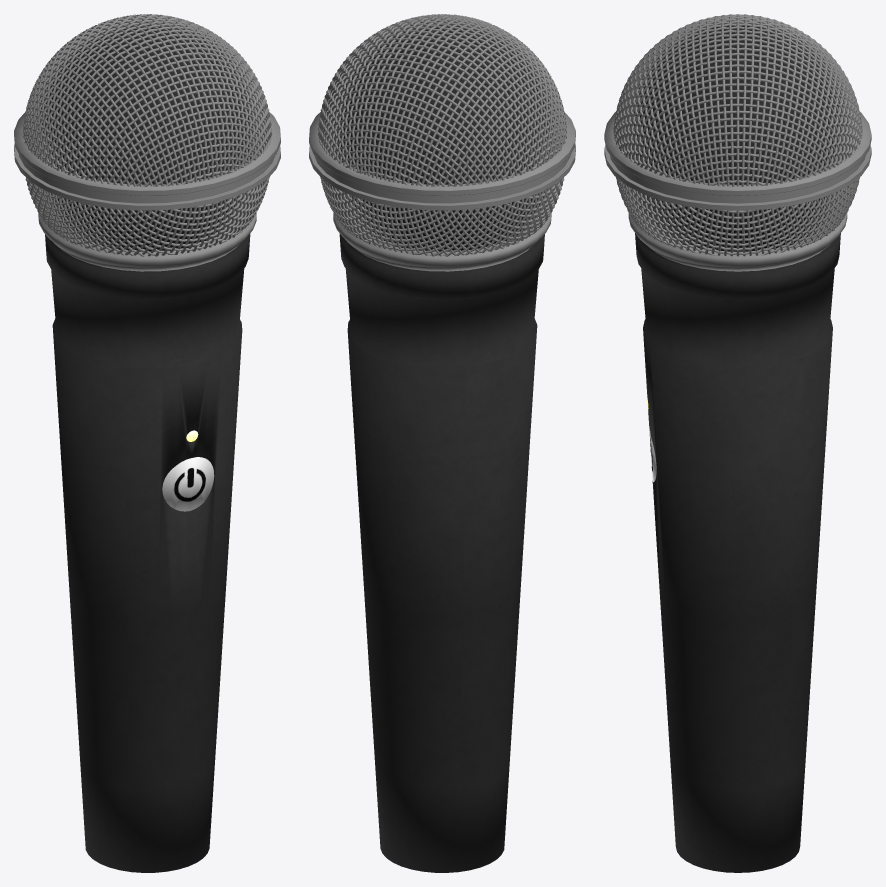
Rendered from microphone.glb.
3 views of the same model, side by side, from view 1: azimuth 30°, elevation 25°; view 2: azimuth 150°, elevation 25°; view 3: azimuth 270°, elevation 25° (orthographic).
Parts seen in each view (by area): view 1: Cylinder.002, duplicat2, Sphere.001, Plane, Cylinder; view 2: Cylinder.002, duplicat2, Sphere.001, Plane; view 3: Cylinder.002, duplicat2, Sphere.001, Plane.
Part boxes in pixels (x1,y1,x2,y2): Cylinder.002: (38,212,256,872); duplicat2: (22,14,272,256); Sphere.001: (34,25,257,251); Plane: (14,112,280,210); Cylinder: (162,457,214,511); Cylinder.002: (333,212,551,872); duplicat2: (317,14,567,256); Sphere.001: (332,25,555,251); Plane: (309,112,575,210); Cylinder.002: (628,213,847,872); duplicat2: (613,14,862,256); Sphere.001: (629,26,846,251); Plane: (604,112,871,210).
Size of the model in its own units: 0.0795 by 0.269 by 0.0795.
Materials: 5 (2 with a texture image).
